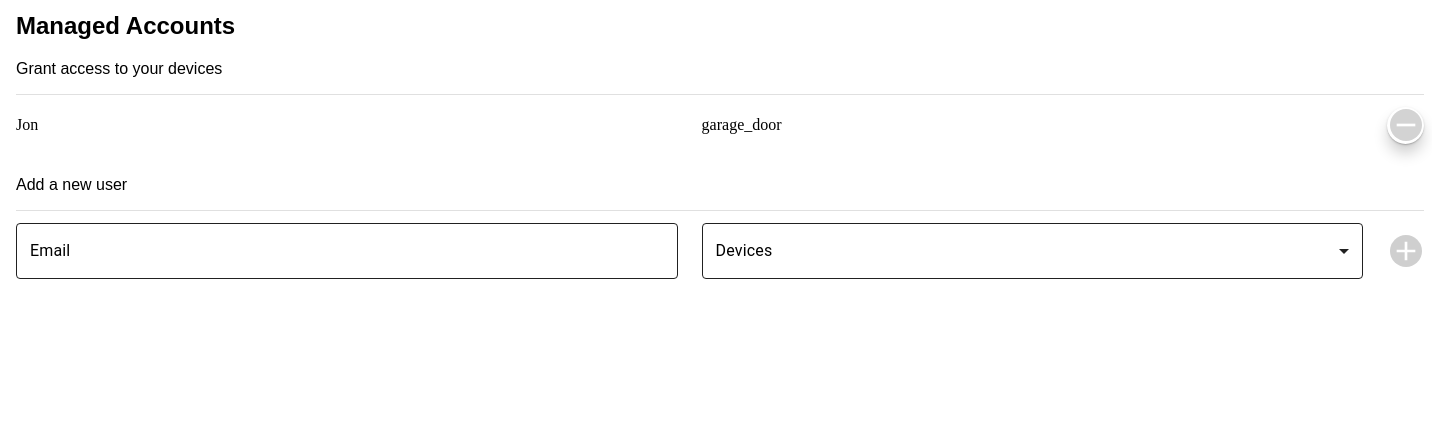
Scenario: AccountChildUser › should display the drop down menu items
The width and height of the screenshot is (1432, 433).
Expected: the button named "user-Jon" is shown, [1387,107,1424,144]
Step 1. Press the mouse on the dropdown → (1032, 251), box [702,223,1363,279]
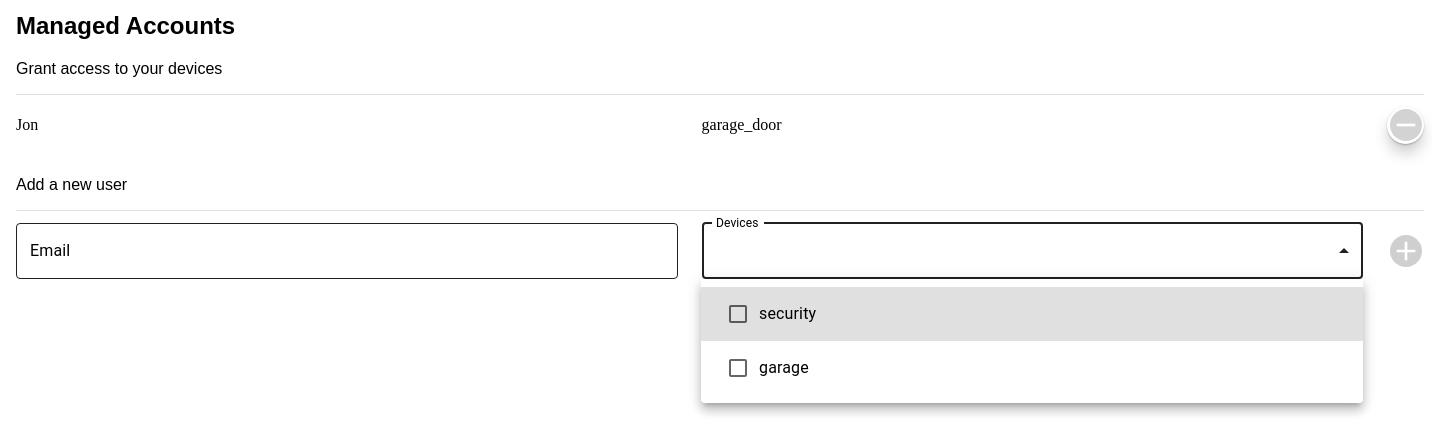
Expected: the text "security" is shown, [759,304,816,323]
Expected: the text "garage" is shown, [759,358,809,377]
